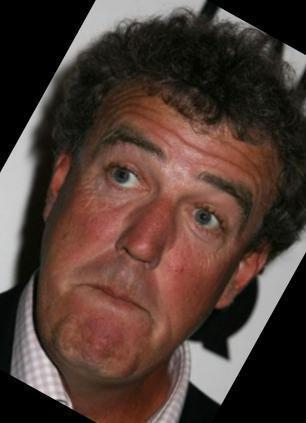Drunk: (63, 102, 241, 372)
